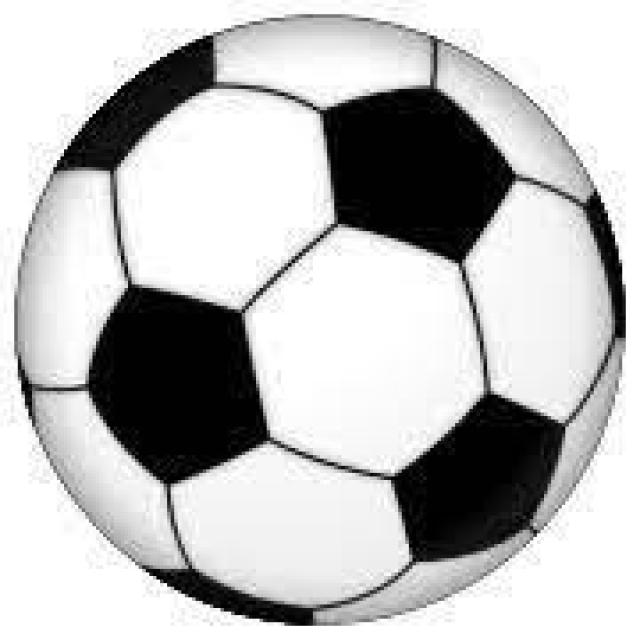Soccer Ball: (25, 21, 622, 612)
